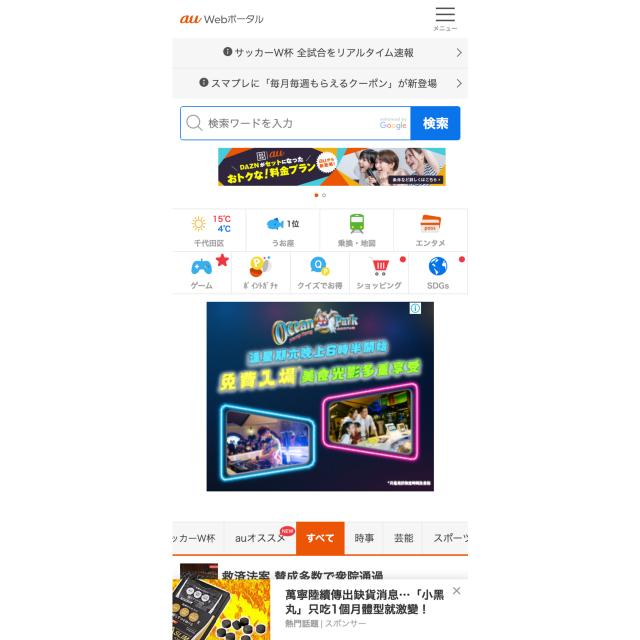CheckBox: (171, 67, 468, 98), (171, 36, 470, 66), (412, 105, 461, 140)
CheckedTextView: (180, 105, 462, 141)
ImageView: (206, 301, 434, 492), (172, 579, 471, 640), (217, 148, 447, 186)
bag: (170, 0, 470, 38)
carousel: (184, 112, 206, 134)
data feed: (421, 113, 452, 134)
date picker: (170, 9, 267, 28)
decoration: (169, 206, 472, 296), (431, 2, 462, 34)
footer: (207, 115, 296, 132)
icon: (170, 519, 470, 557)
